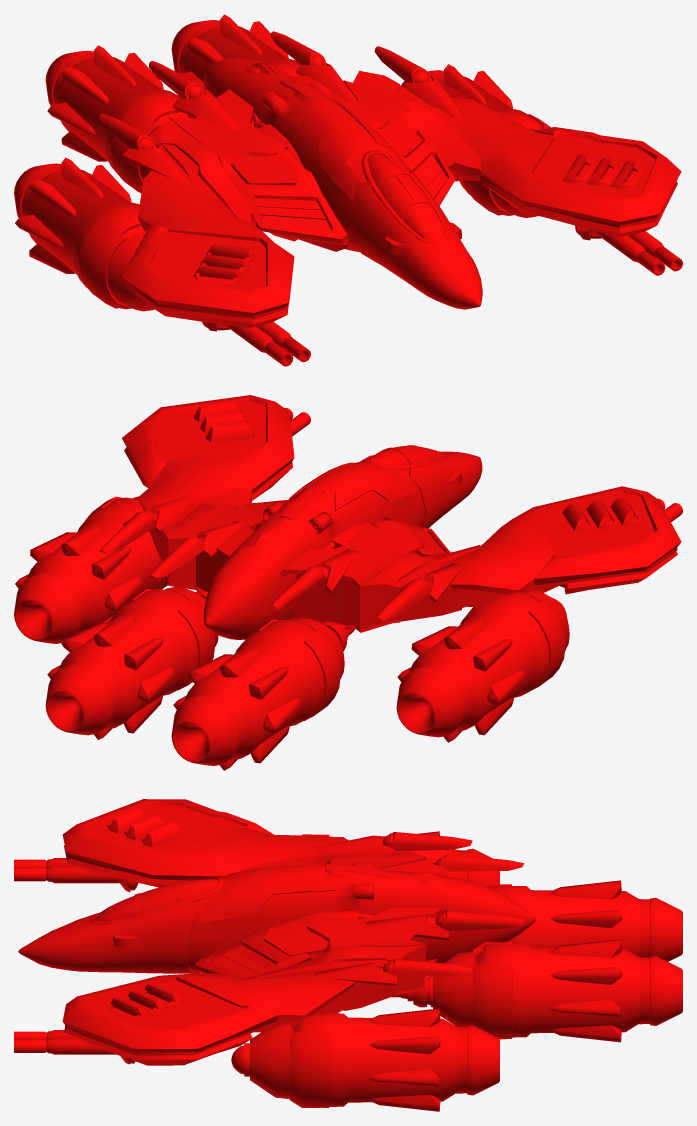
File: airplane_08.FBX
3 views of the same model, one above another, from view 1: azimuth 30°, elevation 25°; view 2: azimuth 150°, elevation 25°; view 3: azimuth 270°, elevation 25° (orthographic). The views are drawn at different scales.
Visible parts, largest first — view 1: body_LP001; view 2: body_LP001; view 3: body_LP001.
Part boxes in pixels (bbox=[...]): body_LP001: bbox=[14, 14, 682, 366]; body_LP001: bbox=[14, 395, 682, 770]; body_LP001: bbox=[14, 799, 682, 1111].
Bounding box in the file's own units: 75.81 × 88.24 × 22.72.
